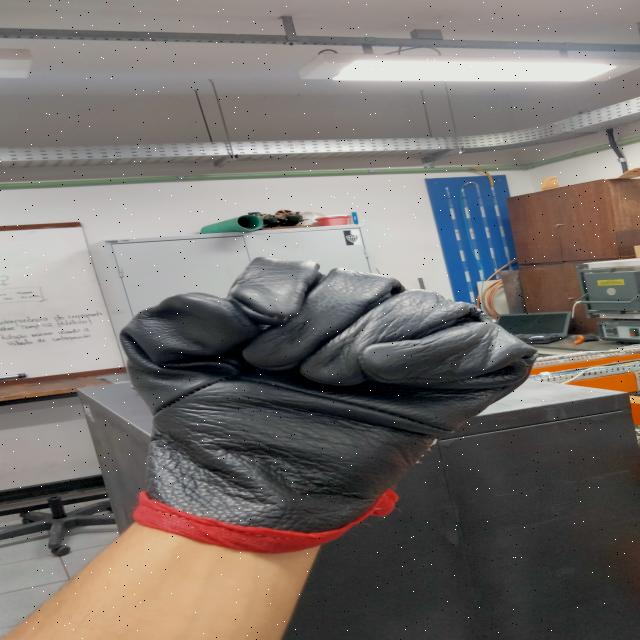Gloves: (98, 248, 526, 550)
